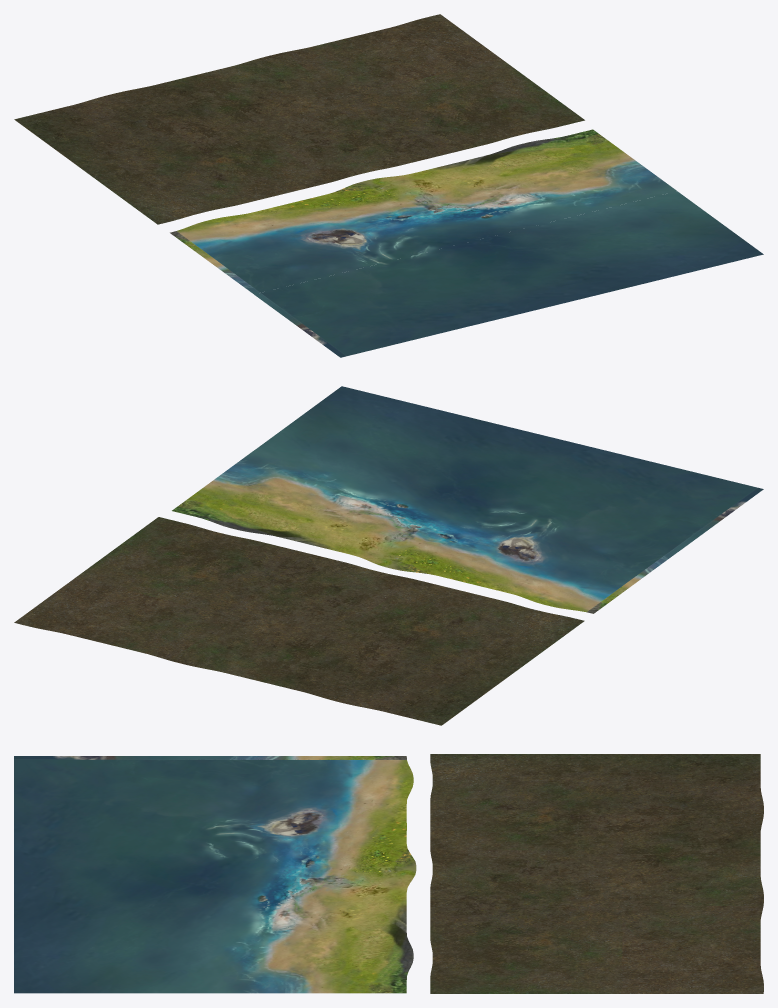
The model's file is HZBQ_Shui_LV01(1).fbx.
The picture shows the model from 3 angles, top to bottom: view 1: azimuth 30°, elevation 25°; view 2: azimuth 150°, elevation 25°; view 3: azimuth 270°, elevation 25°; orthographic projection. The views are drawn at different scales.
Parts seen in each view (by area): view 1: HZBQ_Shui_LV01; view 2: HZBQ_Shui_LV01; view 3: HZBQ_Shui_LV01.
Boxes of the visible parts, x1=… form: HZBQ_Shui_LV01: x1=14, y1=14, x2=763, y2=357; HZBQ_Shui_LV01: x1=14, y1=386, x2=763, y2=725; HZBQ_Shui_LV01: x1=14, y1=754, x2=763, y2=993.
Bounding box in the file's own units: 8679 × 17.65 × 11473.
